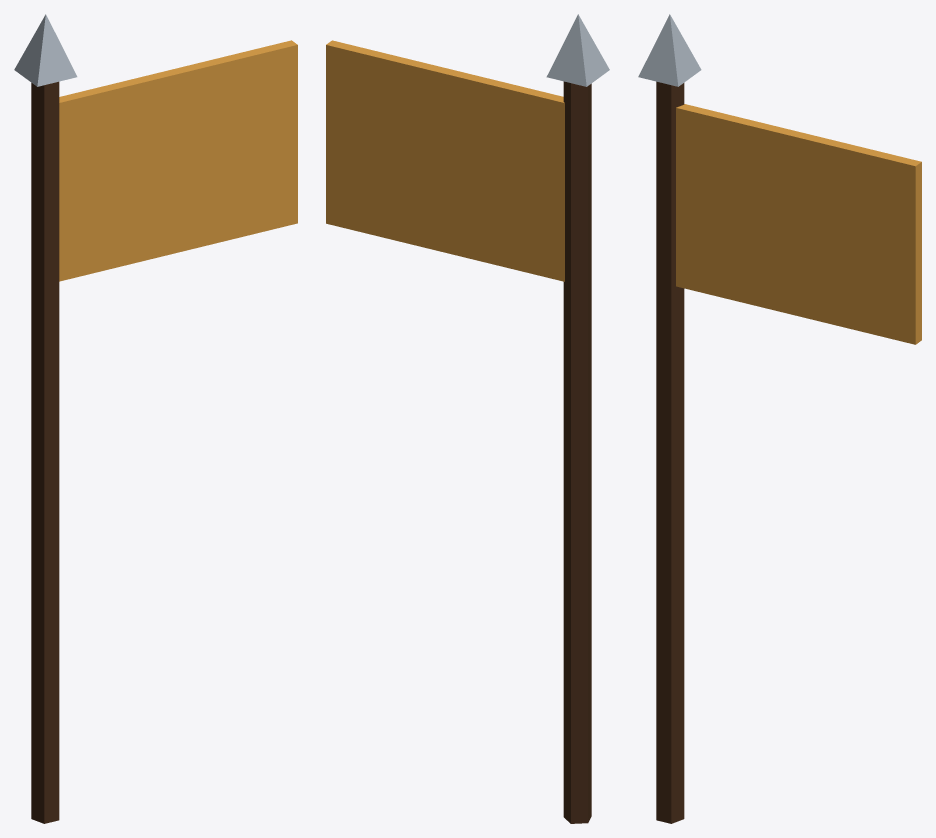
The model's file is banner.fbx.
3 views of the same model, side by side, from view 1: azimuth 30°, elevation 25°; view 2: azimuth 150°, elevation 25°; view 3: azimuth 330°, elevation 25° (orthographic).
Parts seen in each view (by area): view 1: banner; view 2: banner; view 3: banner.
Boxes of the visible parts, <box> form: banner: <box>14,14,297,823</box>; banner: <box>326,14,609,823</box>; banner: <box>638,14,921,823</box>.
Bounding box in the file's own units: 0.3783 × 1.08 × 0.0566.
